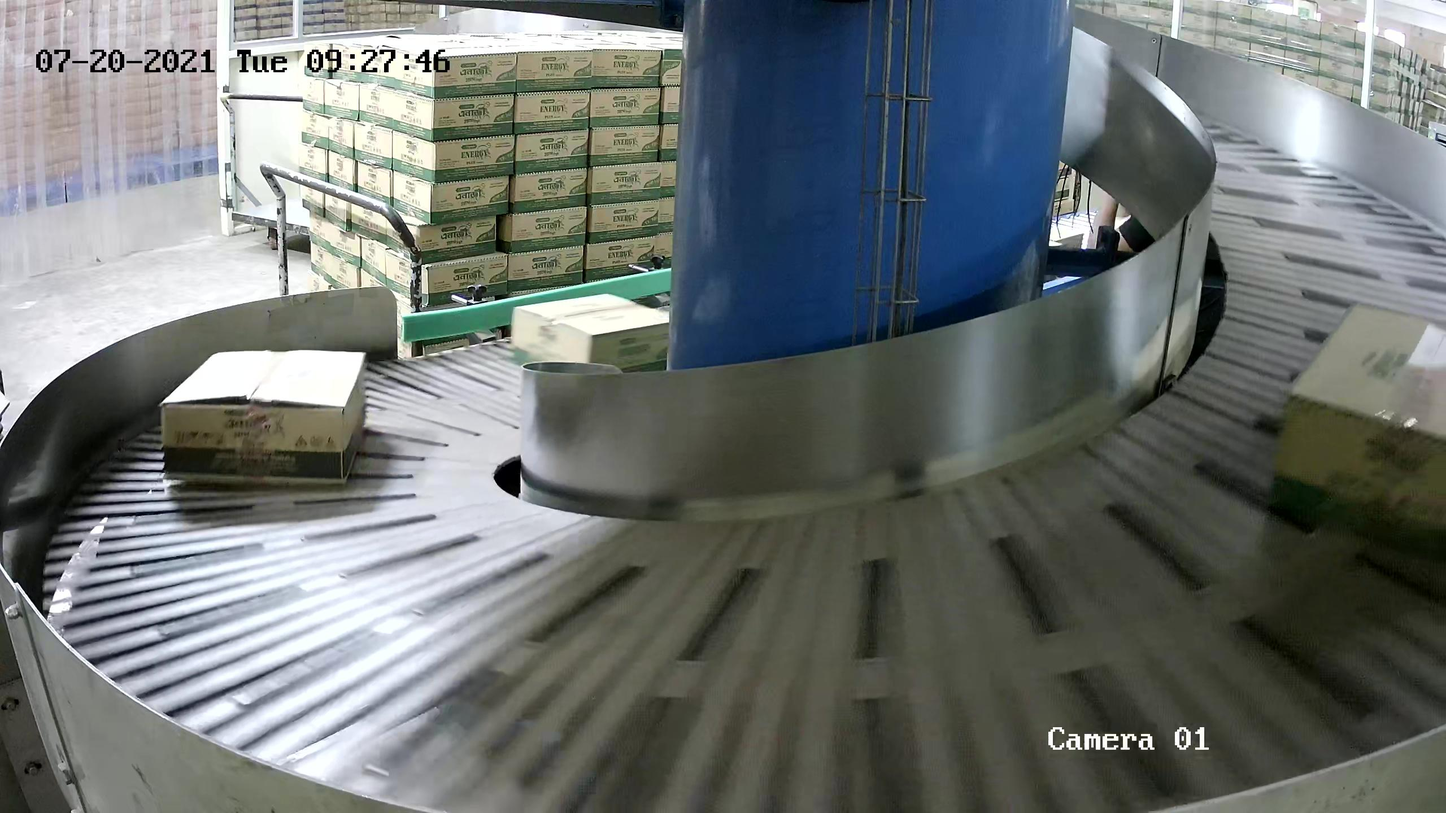Box: (1269, 297, 1446, 562), (158, 348, 368, 485), (509, 291, 670, 373)
